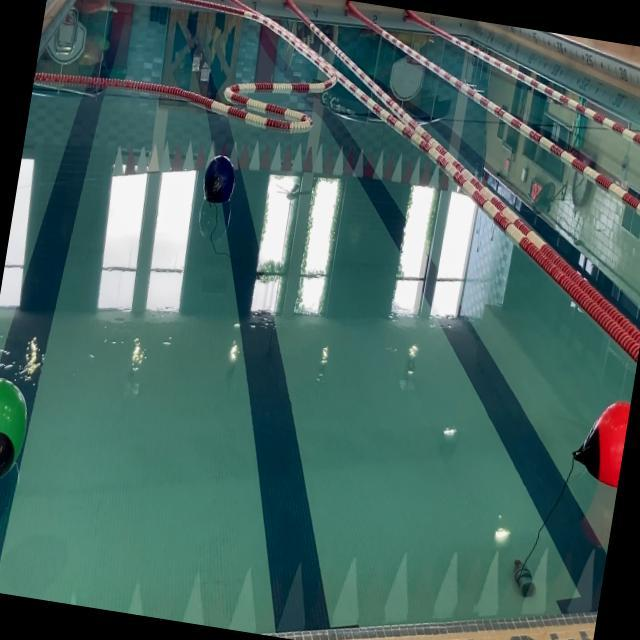buoy: (566, 391, 632, 494), (0, 372, 35, 496), (199, 150, 241, 207)
